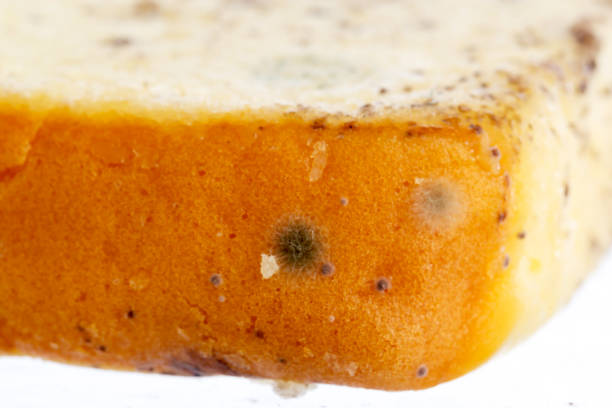mold_bread: (399, 70, 532, 150), (265, 215, 336, 283), (417, 181, 465, 231), (371, 276, 391, 295)
